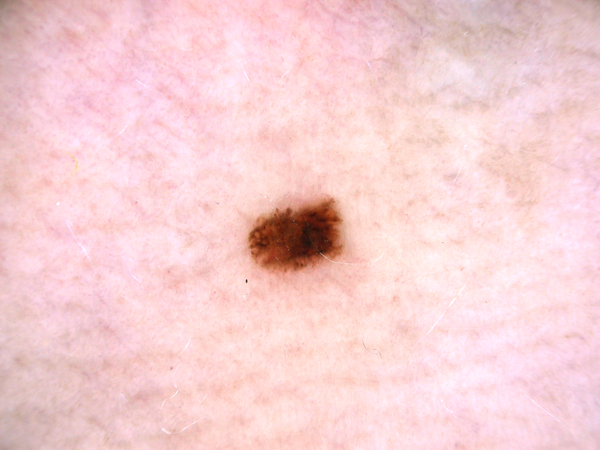Detected Lesion: (244, 193, 355, 283)
